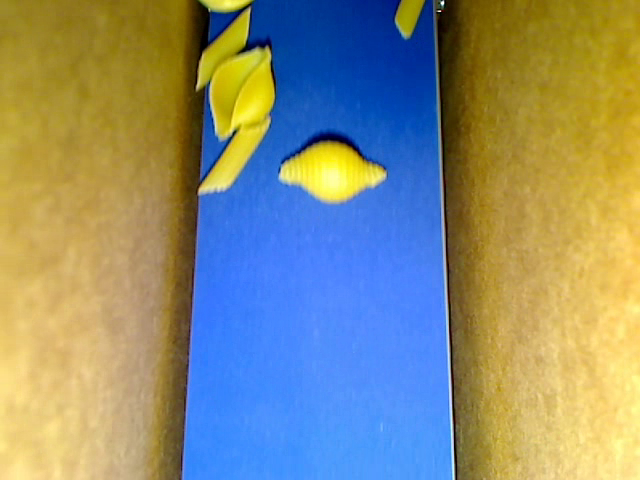penne: (197, 116, 271, 194), (196, 7, 250, 91), (394, 1, 424, 40)
shell: (278, 140, 388, 205), (208, 44, 275, 142)
